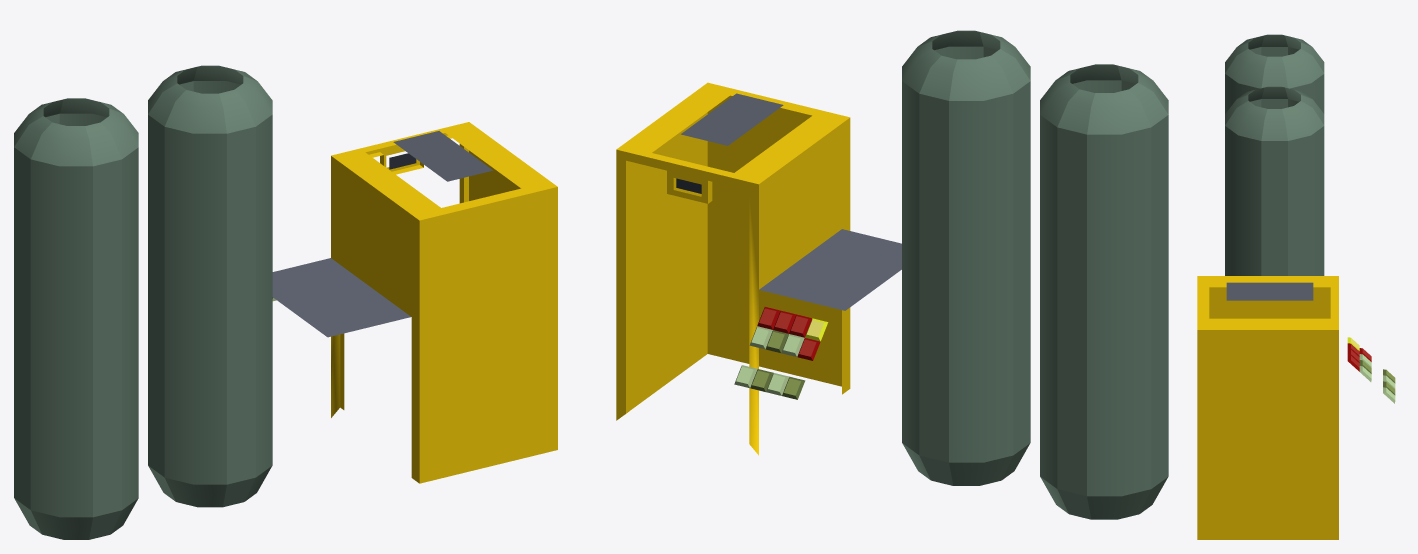
File: g_o_GasBottleRefiller.fbx
3 views of the same model, side by side, from view 1: azimuth 30°, elevation 25°; view 2: azimuth 150°, elevation 25°; view 3: azimuth 270°, elevation 25° (orthographic). The views are drawn at different scales.
Parts seen in each view (by area): view 1: g_o_GasBottleRefiller; view 2: g_o_GasBottleRefiller; view 3: g_o_GasBottleRefiller.
Part boxes in pixels (x1,y1,x2,y2): g_o_GasBottleRefiller: (14,65,557,539); g_o_GasBottleRefiller: (616,30,1168,519); g_o_GasBottleRefiller: (1197,34,1395,539).
Size of the model in its own units: 1.74 by 1.53 by 0.8.
